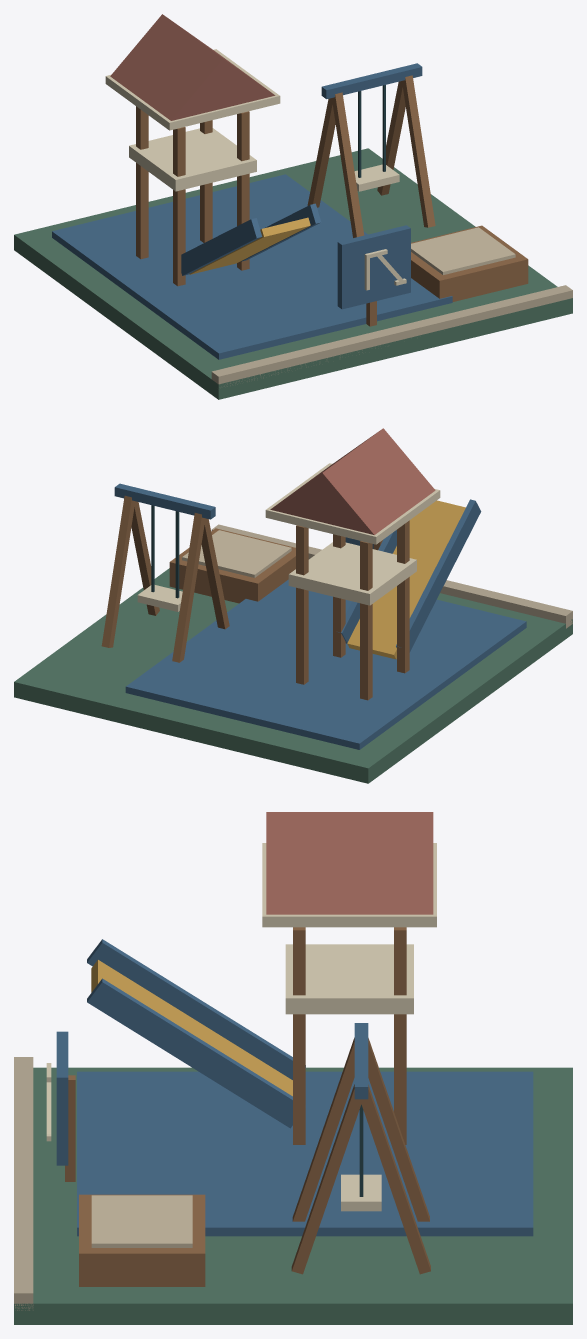
Rendered from playground-seabreeze-complete.glb.
3 renders of one model, top to bottom at view 1: azimuth 30°, elevation 25°; view 2: azimuth 150°, elevation 25°; view 3: azimuth 270°, elevation 25°, orthographic. The views are drawn at different scales.
Visible parts, largest first — view 1: playground; view 2: playground; view 3: playground.
Part boxes in pixels (left/top/right/bottom): playground: left=14, top=14, right=572, bottom=399; playground: left=14, top=428, right=572, bottom=783; playground: left=14, top=812, right=572, bottom=1324.
Size of the model in its own units: 2.88 by 1.94 by 2.88.
